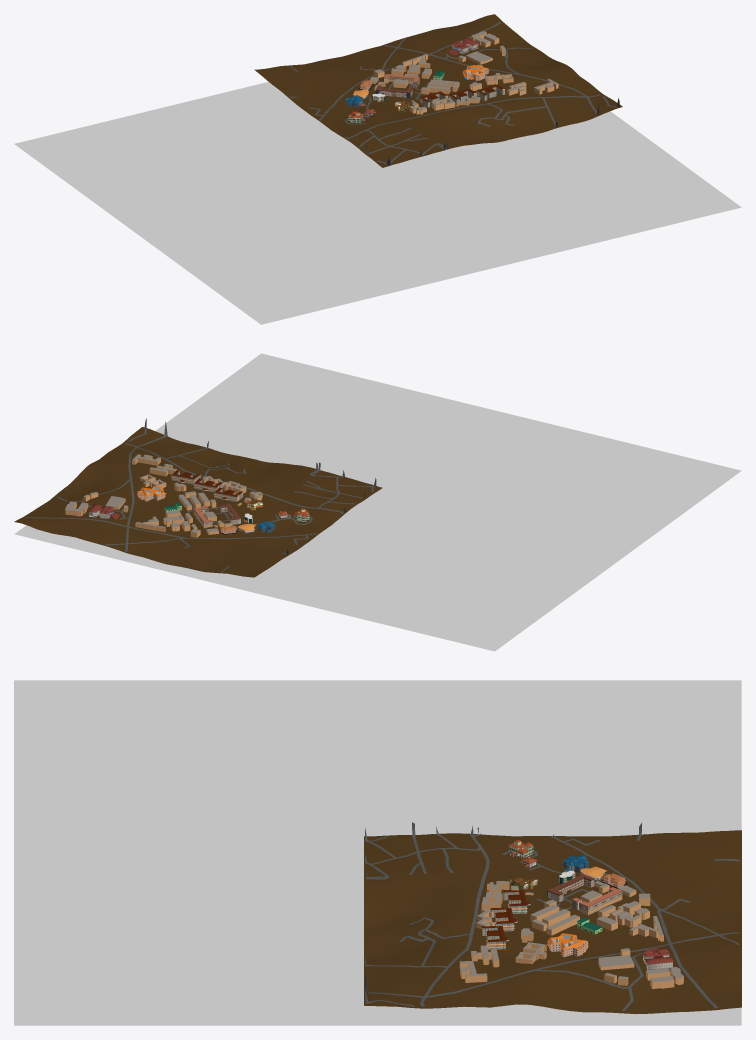
The model's file is map.glb.
3 views of the same model, one above another, from view 1: azimuth 30°, elevation 25°; view 2: azimuth 150°, elevation 25°; view 3: azimuth 270°, elevation 25° (orthographic). The views are drawn at different scales.
Visible parts, largest first — view 1: Terrain_envelope, Terrain, map.osm_roads_residential, map.osm_roads_secondary; view 2: Terrain_envelope, Terrain, map.osm_roads_residential, map.osm_roads_secondary, map.osm_roads_unclassified; view 3: Terrain_envelope, Terrain, map.osm_roads_secondary, map.osm_roads_residential, map.osm_roads_unclassified, map.osm_buildings.002, map.osm_buildings.111.
Boxes of the visible parts, <box> form: Terrain_envelope: <box>14,82,741,324</box>; Terrain: <box>254,14,622,167</box>; map.osm_roads_residential: <box>289,38,619,165</box>; map.osm_roads_secondary: <box>347,22,600,139</box>; Terrain_envelope: <box>14,353,741,651</box>; Terrain: <box>14,427,382,577</box>; map.osm_roads_residential: <box>81,418,376,572</box>; map.osm_roads_secondary: <box>24,421,345,551</box>; map.osm_roads_unclassified: <box>57,462,343,548</box>; Terrain_envelope: <box>14,680,741,1025</box>; Terrain: <box>364,830,741,1014</box>; map.osm_roads_secondary: <box>365,826,739,1008</box>; map.osm_roads_residential: <box>365,822,739,1006</box>; map.osm_roads_unclassified: <box>365,827,719,1010</box>; map.osm_buildings.002: <box>547,933,588,957</box>; map.osm_buildings.111: <box>547,874,594,902</box>.
Bounding box in the file's own units: 1910 × 96.06 × 1700.
Materials: 108 (39 with a texture image).
